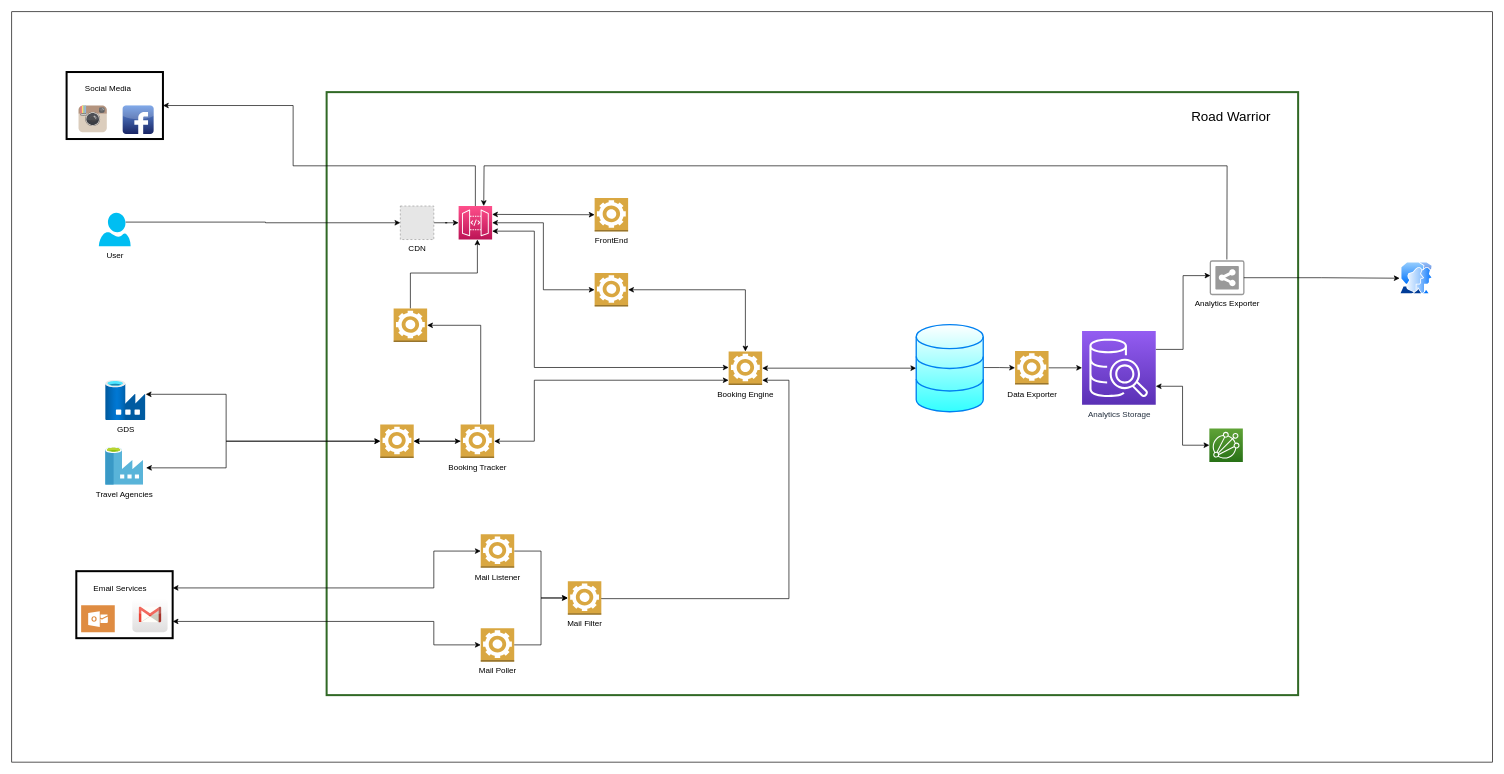
The diagram is 1504 pixels wide and 774 high, and some of its shapes have lost their labels. Grey dashed boxes stand in for pictures. The centre of each missing label's shape, as x and y in pixels:
Agency/GDS Connector: [397,441]
Analytics Generator: [1226,445]
API Gateway: [475,222]
Booking Storage: [949,368]
Notifier: [410,325]
Social Media Connector: [611,289]
Third Party Analytics User: [1416,278]
